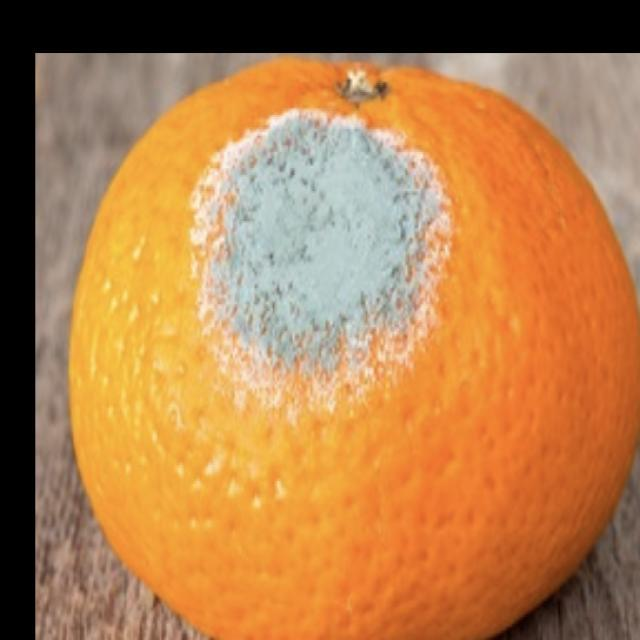sedikit-busuk: (69, 56, 639, 639)
